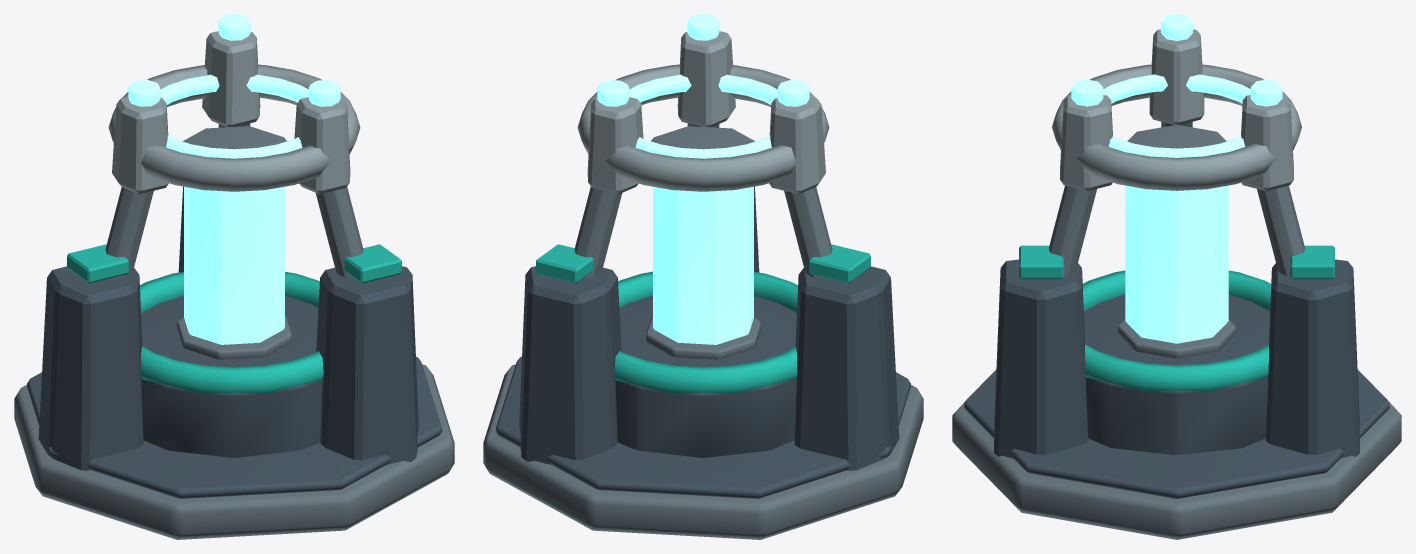
File: SM_Resonator.fbx
3 views of the same model, side by side, from view 1: azimuth 30°, elevation 25°; view 2: azimuth 150°, elevation 25°; view 3: azimuth 270°, elevation 25° (orthographic).
Parts seen in each view (by area): view 1: SM_Resonator; view 2: SM_Resonator; view 3: SM_Resonator.
Part boxes in pixels (x1,y1,x2,y2): SM_Resonator: (14,14,454,539); SM_Resonator: (483,14,923,539); SM_Resonator: (952,14,1401,539).
Bounding box in the file's own units: 170 × 170 × 160.
